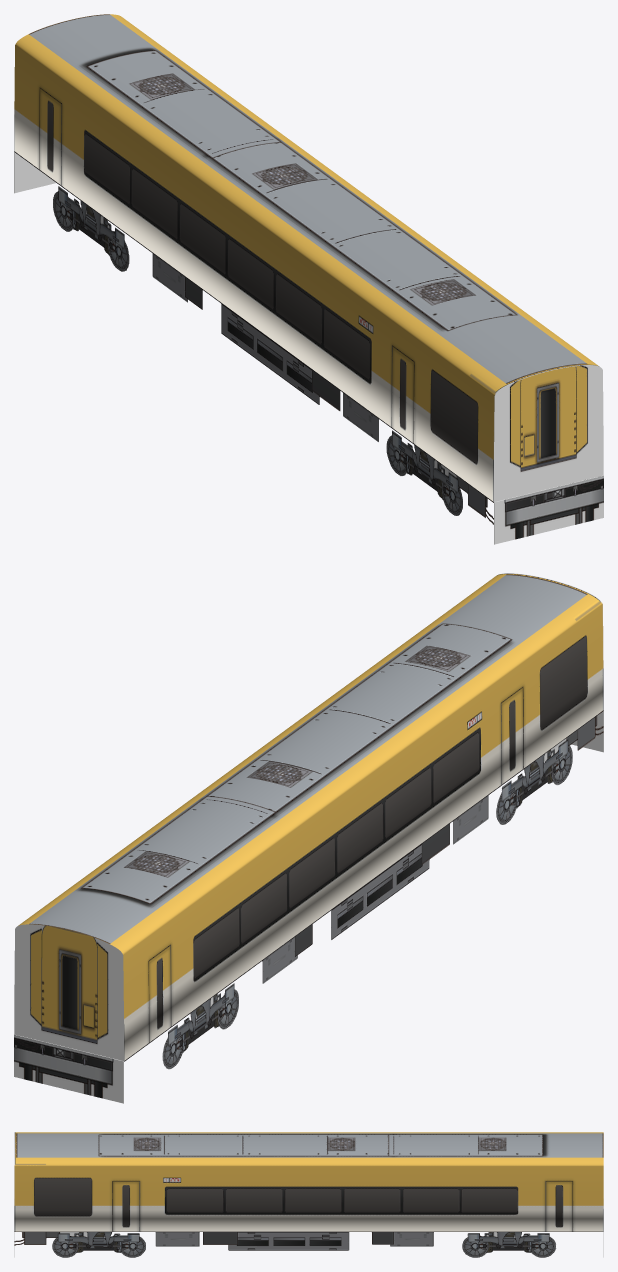
The model's file is car3.glb.
3 views of the same model, one above another, from view 1: azimuth 30°, elevation 25°; view 2: azimuth 150°, elevation 25°; view 3: azimuth 270°, elevation 25° (orthographic). The views are drawn at different scales.
Visible parts, largest first — view 1: kintetsu-23000-car3; view 2: kintetsu-23000-car3; view 3: kintetsu-23000-car3.
Boxes of the visible parts, x1,y1,x2,y2 form: kintetsu-23000-car3: [14, 14, 603, 544]; kintetsu-23000-car3: [14, 573, 603, 1103]; kintetsu-23000-car3: [14, 1132, 603, 1257].
Size of the model in its own units: 2.8 by 3.89 by 21.2.
8 materials, 7 textured.
